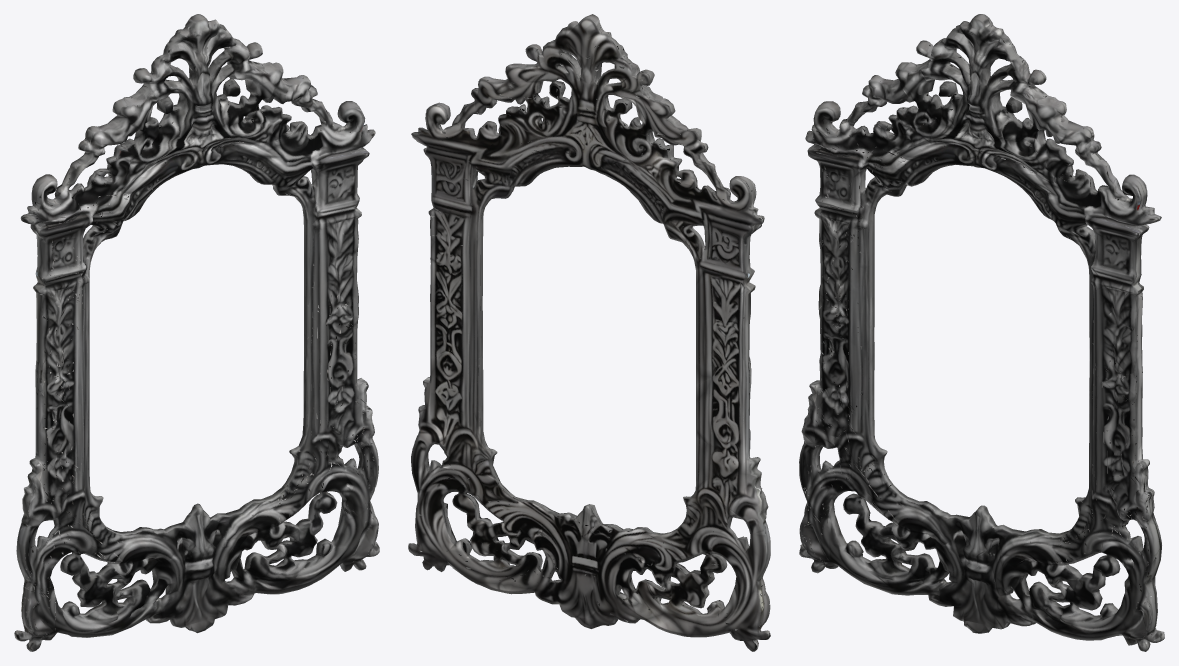
File: gothic_frame_lo.glb
3 renders of one model, left to right at view 1: azimuth 30°, elevation 25°; view 2: azimuth 150°, elevation 25°; view 3: azimuth 330°, elevation 25°, orthographic.
Parts seen in each view (by area): view 1: Mesh1.0_Material.001_0 (×3); view 2: Mesh1.0_Material.001_0 (×3); view 3: Mesh1.0_Material.001_0 (×3).
Boxes of the visible parts, left/top/right/bottom form: Mesh1.0_Material.001_0 (×3): left=14, top=14, right=379, bottom=651; Mesh1.0_Material.001_0 (×3): left=408, top=14, right=770, bottom=651; Mesh1.0_Material.001_0 (×3): left=799, top=14, right=1164, bottom=651.
Bounding box in the file's own units: 1.24 × 2 × 0.0643.
Materials: 1 (1 with a texture image).
